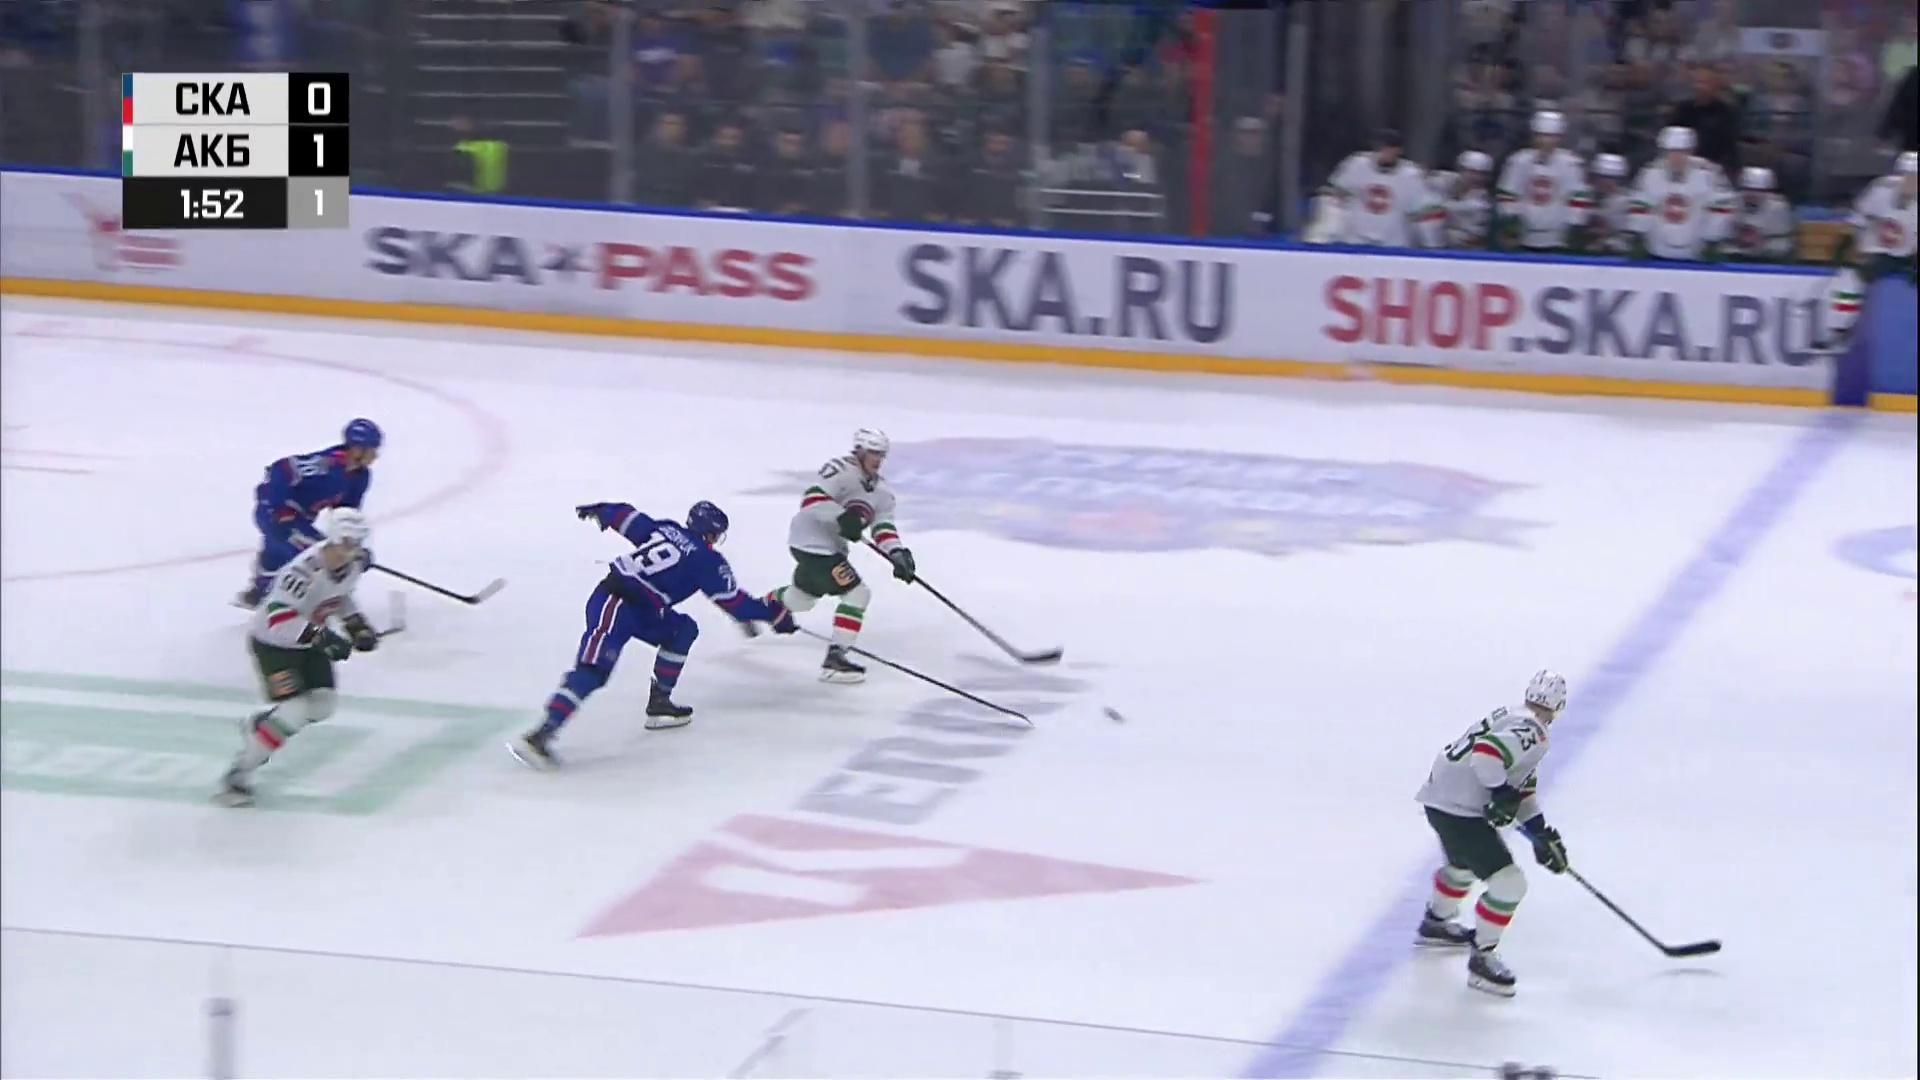ball: (1104, 707, 1124, 721)
